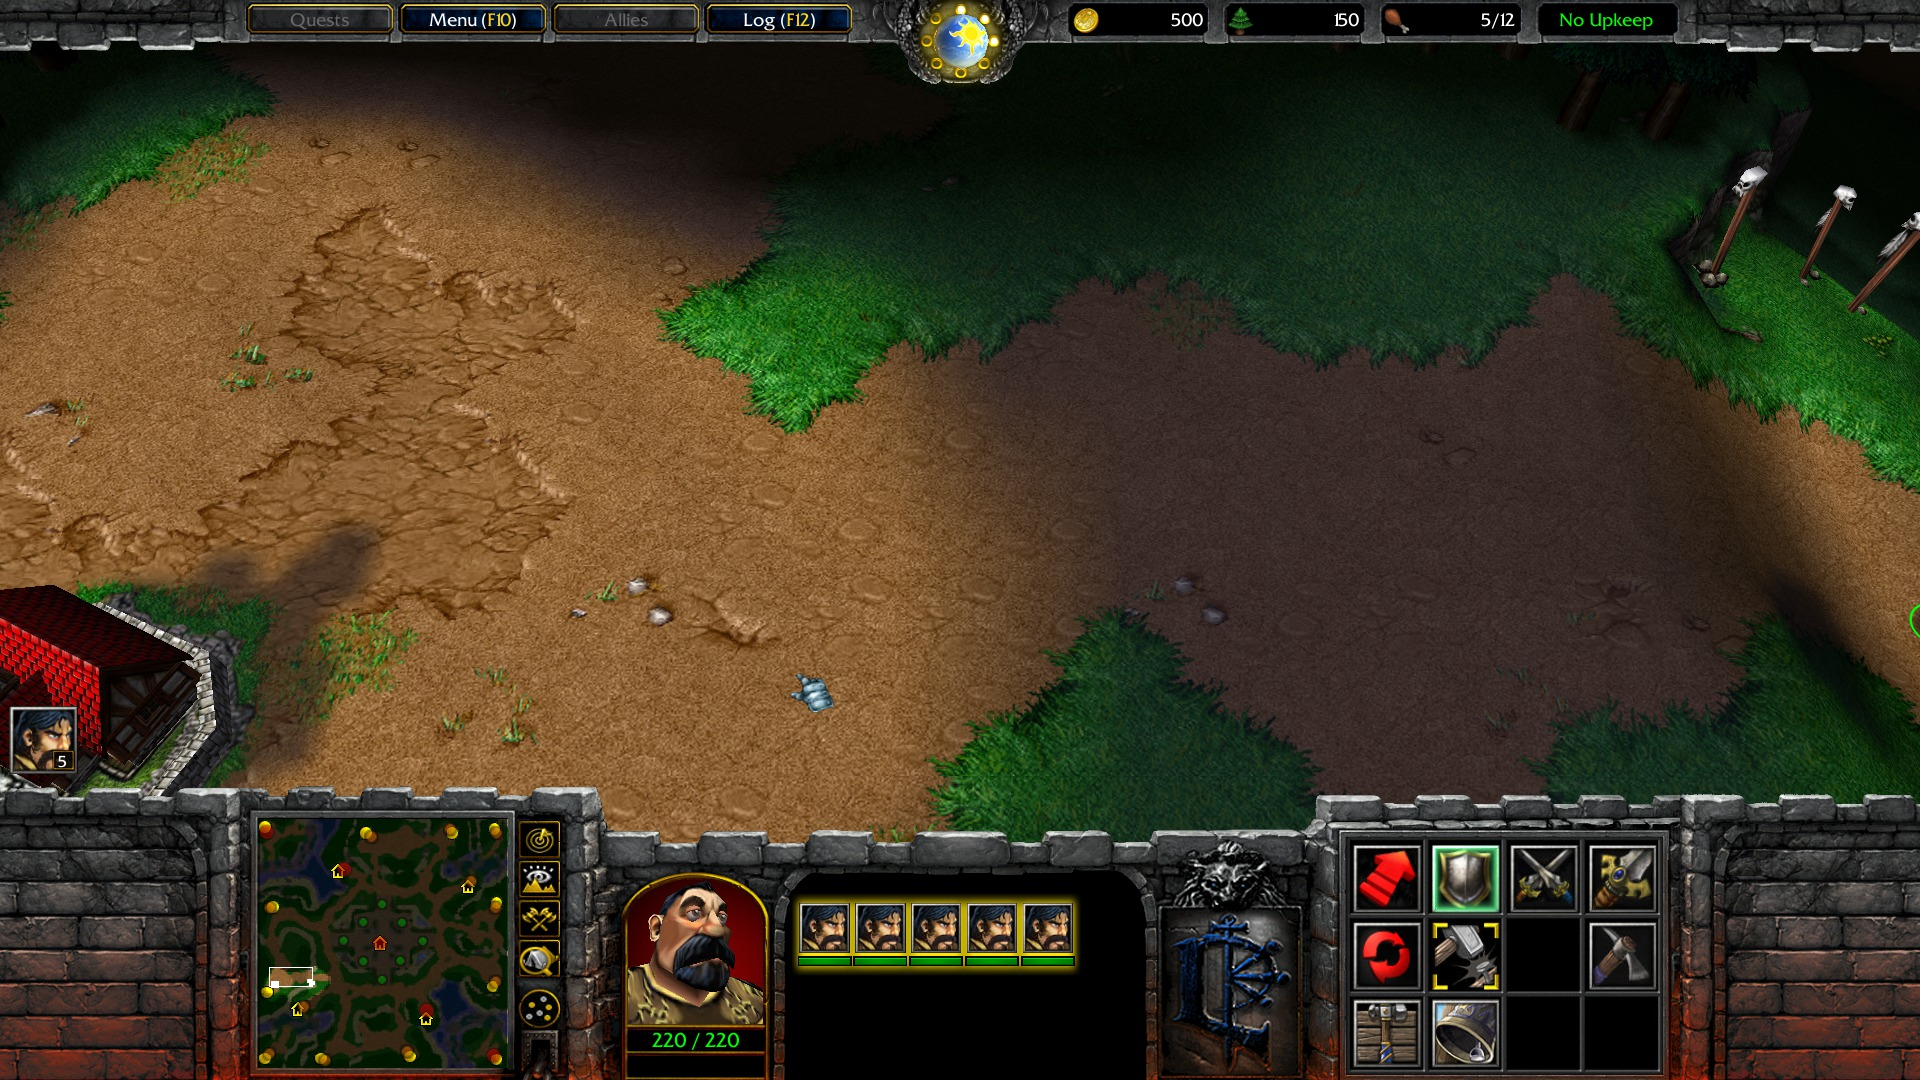Townhall: (3, 574, 256, 790)
